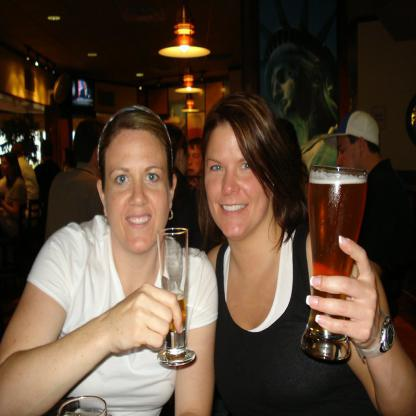drinking: (300, 165, 368, 361), (157, 227, 196, 367)
